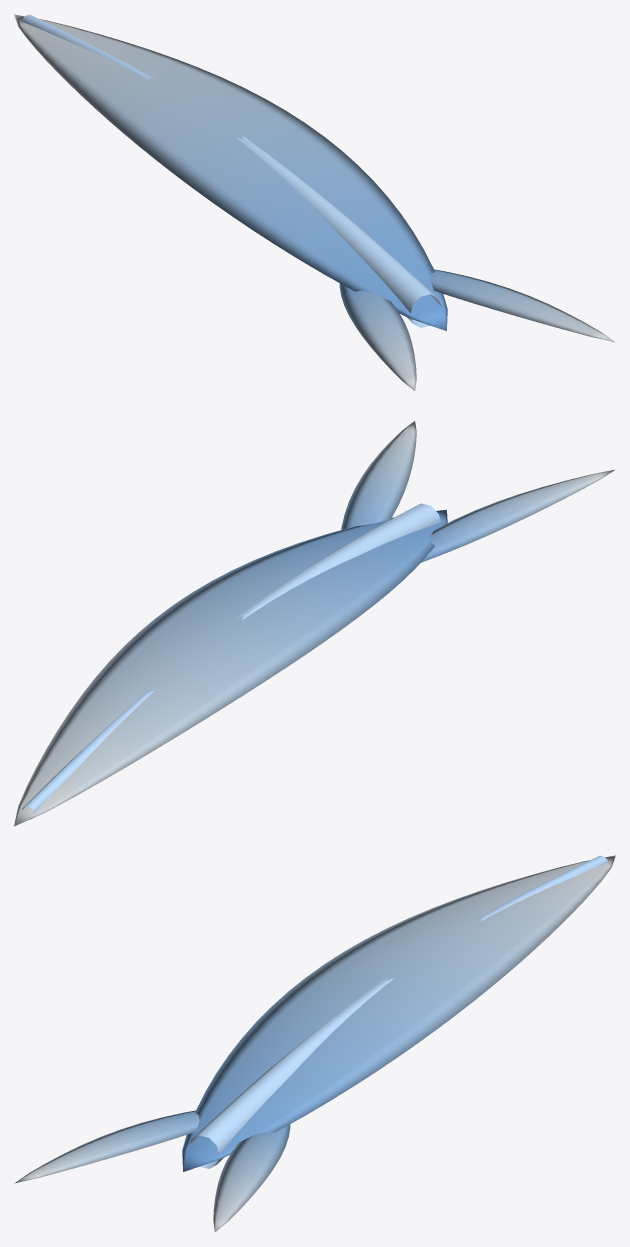
File: SM_ArchonFeather.fbx
3 views of the same model, one above another, from view 1: azimuth 30°, elevation 25°; view 2: azimuth 150°, elevation 25°; view 3: azimuth 330°, elevation 25° (orthographic).
Visible parts, largest first — view 1: SM_ArchonFeather; view 2: SM_ArchonFeather; view 3: SM_ArchonFeather.
Boxes of the visible parts, x1,y1,x2,y2 form: SM_ArchonFeather: (14, 14, 615, 390); SM_ArchonFeather: (14, 421, 614, 826); SM_ArchonFeather: (14, 855, 615, 1231).
Size of the model in its own units: 0.1661 by 0.0424 by 0.7183.
